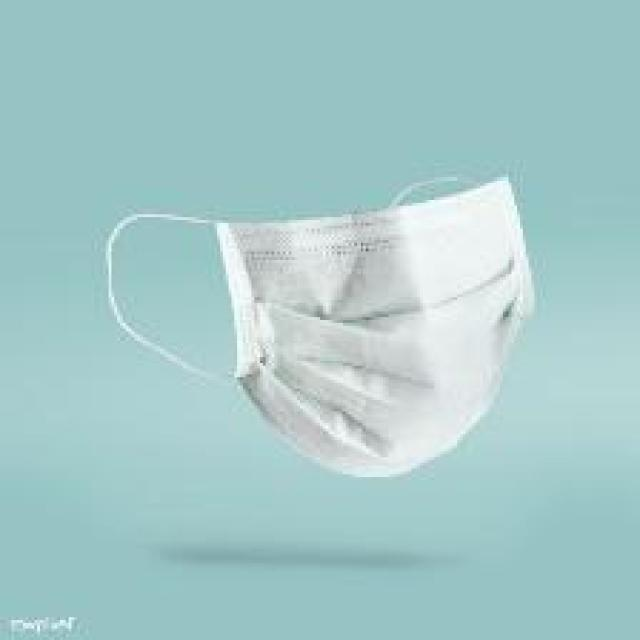Mask: (118, 152, 606, 548)
